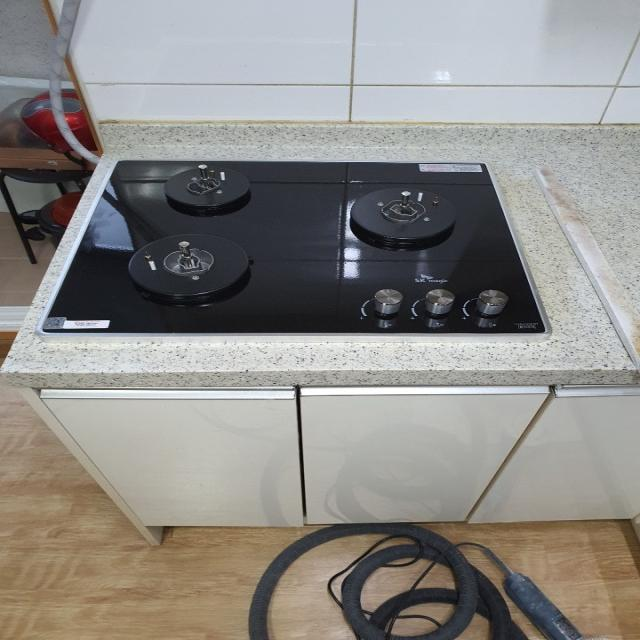knob_ON: (74, 140, 522, 308)
